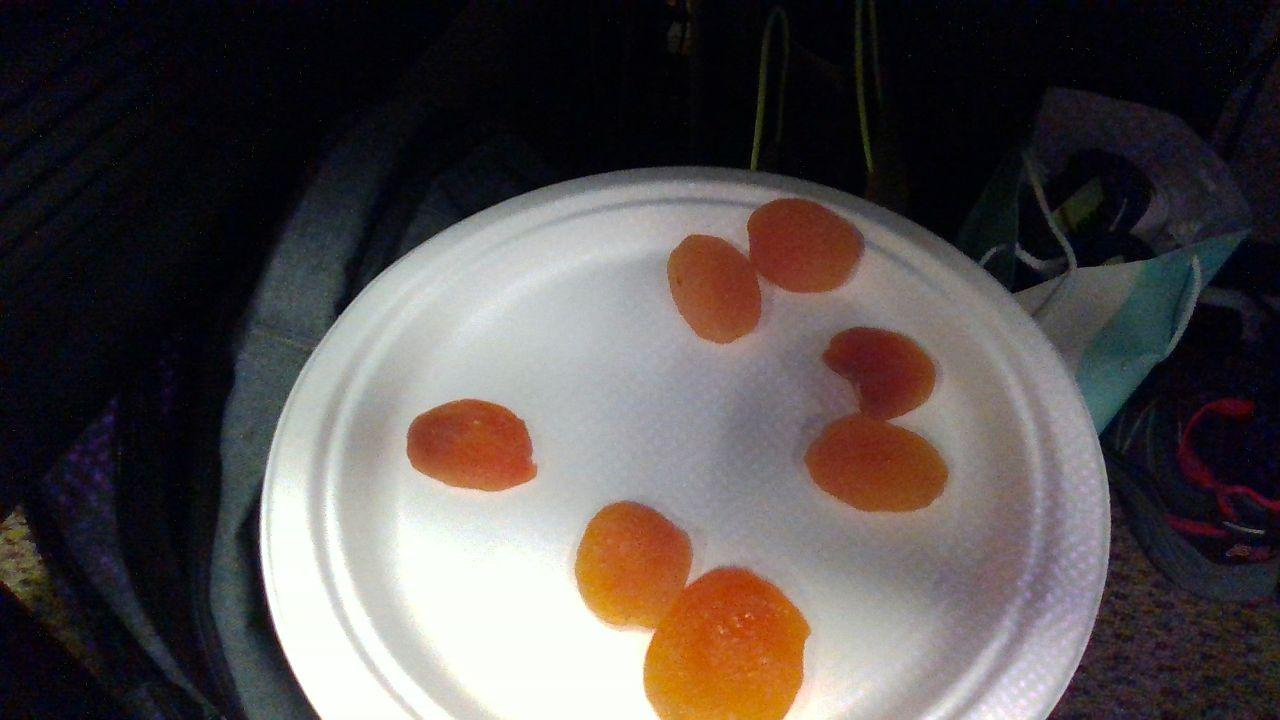apricot: (643, 568, 811, 720), (575, 502, 693, 629), (805, 416, 948, 512), (407, 400, 538, 493), (747, 198, 862, 293), (824, 327, 935, 419), (669, 236, 761, 342)
